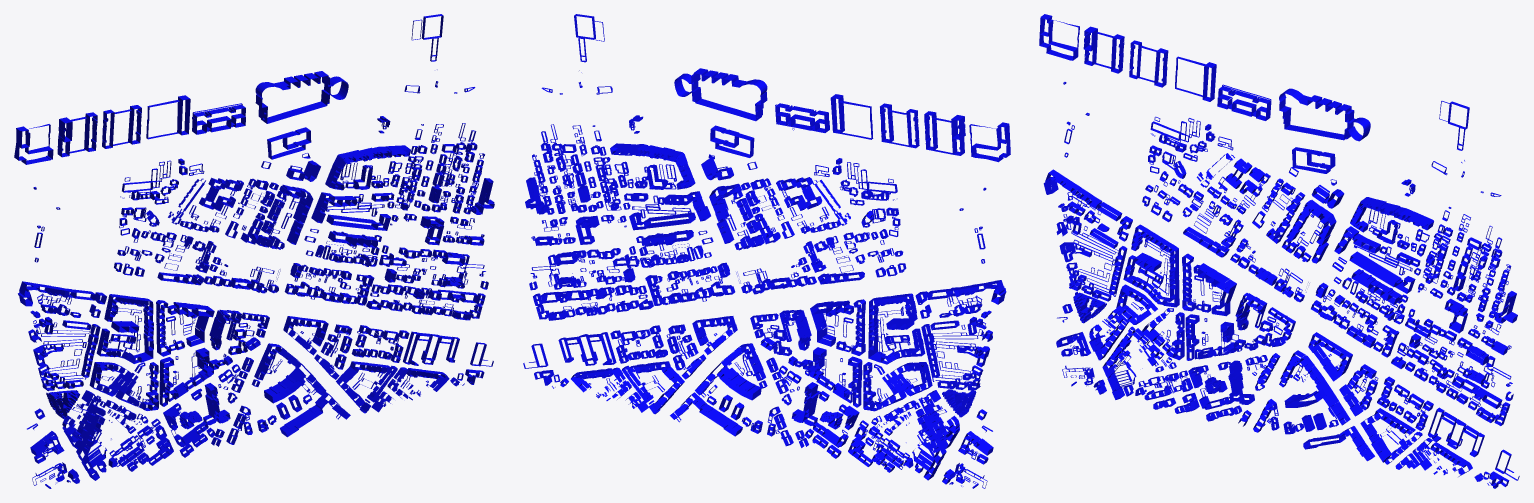
The model's file is Bati3DMur.obj.
The picture shows the model from 3 angles, left to right: view 1: azimuth 30°, elevation 25°; view 2: azimuth 150°, elevation 25°; view 3: azimuth 330°, elevation 25°; orthographic projection.
Parts seen in each view (by area): view 1: 675, 24, 678, 1027, 683, 1179, 893, 178, 1028, 352, 987; view 2: 24, 675, 678, 1027, 683, 893, 178, 1179, 1028, 987, 352; view 3: 24, 675, 678, 1179, 683, 1027, 893, 1249, 178, 1164, 352.
Part boxes in pixels (left/top/right/bottom): 675: left=102, top=95, right=190, bottom=148; 24: left=255, top=71, right=330, bottom=123; 678: left=57, top=112, right=97, bottom=157; 1027: left=264, top=360, right=315, bottom=403; 683: left=14, top=124, right=53, bottom=164; 1179: left=203, top=103, right=245, bottom=132; 893: left=200, top=383, right=230, bottom=431; 178: left=267, top=127, right=311, bottom=159; 1028: left=280, top=398, right=325, bottom=437; 352: left=81, top=439, right=106, bottom=480; 987: left=209, top=309, right=234, bottom=350; 24: left=691, top=68, right=767, bottom=121; 675: left=830, top=94, right=919, bottom=148; 678: left=924, top=111, right=965, bottom=155; 1027: left=706, top=360, right=761, bottom=400; 683: left=969, top=122, right=1010, bottom=162; 893: left=791, top=382, right=820, bottom=431; 178: left=710, top=125, right=754, bottom=157; 1179: left=775, top=103, right=817, bottom=130; 1028: left=694, top=398, right=742, bottom=436; 987: left=786, top=309, right=811, bottom=350; 352: left=913, top=441, right=940, bottom=480; 24: left=1279, top=88, right=1354, bottom=140; 675: left=1129, top=40, right=1216, bottom=101; 678: left=1083, top=26, right=1124, bottom=73; 1179: left=1227, top=87, right=1271, bottom=120; 683: left=1039, top=14, right=1079, bottom=60; 1027: left=1284, top=379, right=1338, bottom=407; 893: left=1225, top=360, right=1254, bottom=404; 1249: left=1349, top=251, right=1401, bottom=287; 178: left=1292, top=147, right=1335, bottom=173; 1164: left=1303, top=200, right=1336, bottom=238; 352: left=1107, top=360, right=1134, bottom=399.
Size of the model in its own units: 946 by 720 by 31.7.
